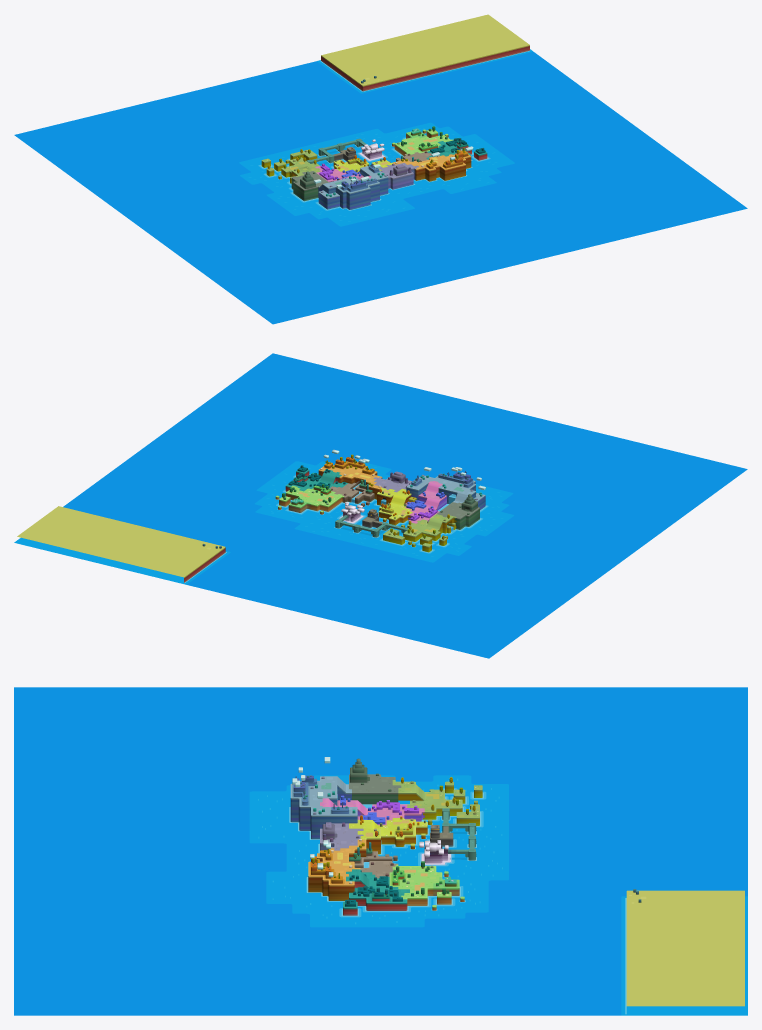
The model's file is Tumblecube Island.obj.
The picture shows the model from 3 angles, top to bottom: view 1: azimuth 30°, elevation 25°; view 2: azimuth 150°, elevation 25°; view 3: azimuth 270°, elevation 25°; orthographic projection. The views are drawn at different scales.
Parts seen in each view (by area): view 1: island_01_sea, island_01_teaser, island_01_08_base, island_01_04_base, island_01_10_base, island_01_01_base, island_01_08_flora, island_01_05_base, island_01_09_base, island_01_bridge; view 2: island_01_sea, island_01_teaser, island_01_10_base, island_01_01_base, island_01_08_base, island_01_06_base, island_01_07_base, island_01_04_base, island_01_04_flora, island_01_08_flora, island_01_09_base, island_01_bridge (+3 smaller); view 3: island_01_sea, island_01_teaser, island_01_08_base, island_01_10_base, island_01_01_base, island_01_04_base, island_01_06_base, island_01_02_base, island_01_09_base, island_01_02_flora, island_01_08_flora, island_01_01_flora (+8 smaller).
Part boxes in pixels (left/top/right/bottom): island_01_sea: left=14, top=49, right=747, bottom=324; island_01_teaser: left=321, top=14, right=529, bottom=91; island_01_08_base: left=318, top=166, right=388, bottom=209; island_01_04_base: left=393, top=150, right=471, bottom=181; island_01_10_base: left=261, top=150, right=320, bottom=183; island_01_01_base: left=392, top=129, right=453, bottom=156; island_01_08_flora: left=320, top=163, right=387, bottom=197; island_01_05_base: left=379, top=163, right=418, bottom=189; island_01_09_base: left=291, top=171, right=328, bottom=201; island_01_bridge: left=306, top=138, right=366, bottom=165; island_01_sea: left=14, top=353, right=747, bottom=658; island_01_teaser: left=17, top=506, right=225, bottom=582; island_01_10_base: left=383, top=514, right=456, bottom=552; island_01_01_base: left=275, top=486, right=343, bottom=514; island_01_08_base: left=406, top=475, right=485, bottom=510; island_01_06_base: left=377, top=488, right=412, bottom=525; island_01_07_base: left=405, top=481, right=446, bottom=523; island_01_04_base: left=318, top=465, right=382, bottom=499; island_01_04_flora: left=320, top=454, right=380, bottom=487; island_01_08_flora: left=410, top=470, right=482, bottom=500; island_01_09_base: left=437, top=502, right=479, bottom=529; island_01_bridge: left=334, top=515, right=408, bottom=537; island_01_sea: left=14, top=687, right=747, bottom=1015; island_01_teaser: left=626, top=889, right=744, bottom=1006; island_01_08_base: left=290, top=776, right=357, bottom=839; island_01_10_base: left=392, top=780, right=482, bottom=825; island_01_01_base: left=389, top=864, right=464, bottom=910; island_01_04_base: left=308, top=839, right=366, bottom=900; island_01_06_base: left=349, top=818, right=427, bottom=854; island_01_02_base: left=343, top=869, right=409, bottom=915; island_01_09_base: left=349, top=774, right=401, bottom=804; island_01_02_flora: left=344, top=869, right=406, bottom=906; island_01_08_flora: left=292, top=775, right=355, bottom=814; island_01_01_flora: left=391, top=861, right=458, bottom=896.
Bounding box in the file's own units: 267 × 15.51 × 252.
